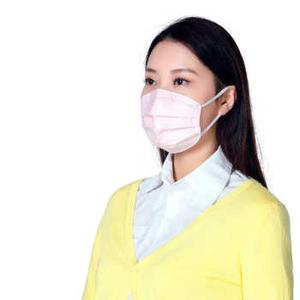face_mask: (140, 41, 217, 148)
